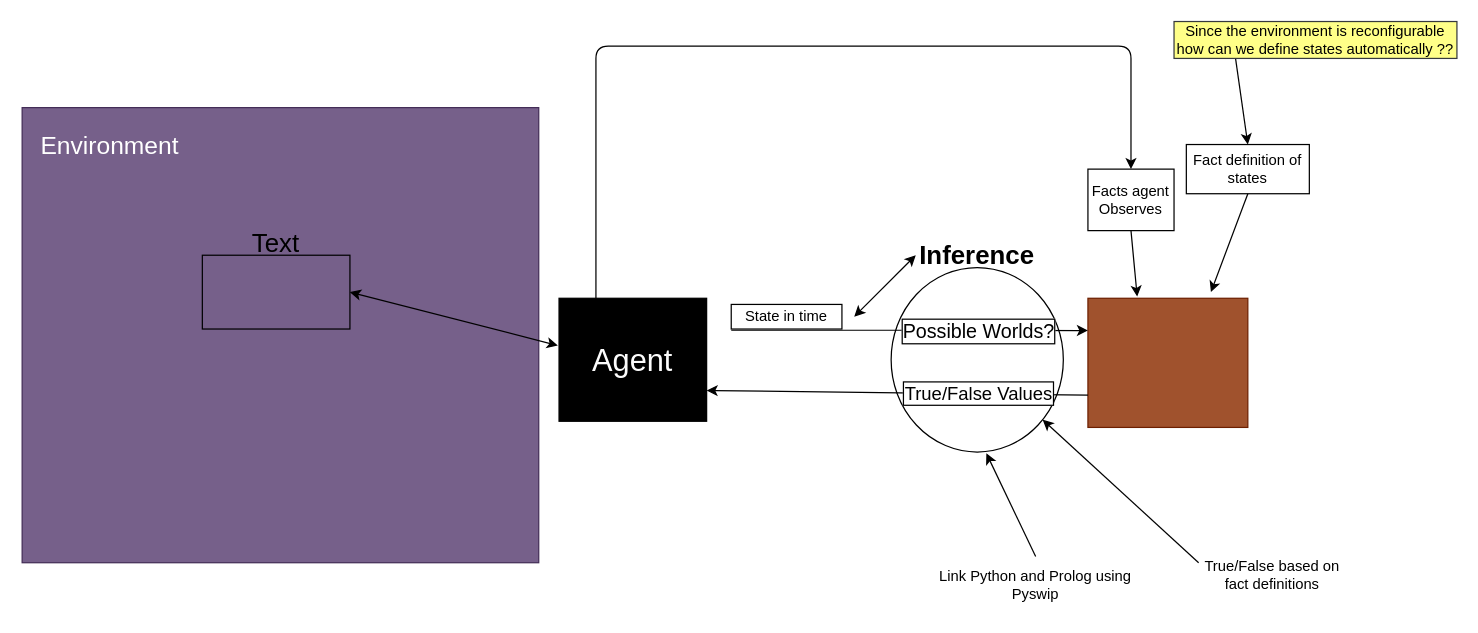
Some shapes in this 1478 by 633 pixel diagram are drawn without their labels. Here are the shapes that lost their labels. From the top down, the box of each, then its label:
(201, 254, 350, 329): Robot
(1087, 297, 1248, 427): Knowledge Base File in Prolog
